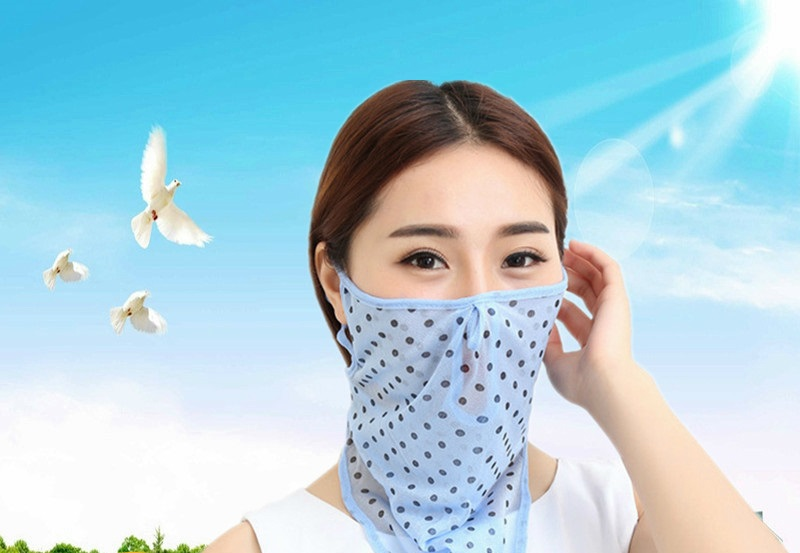face_mask: (337, 150, 565, 427)
